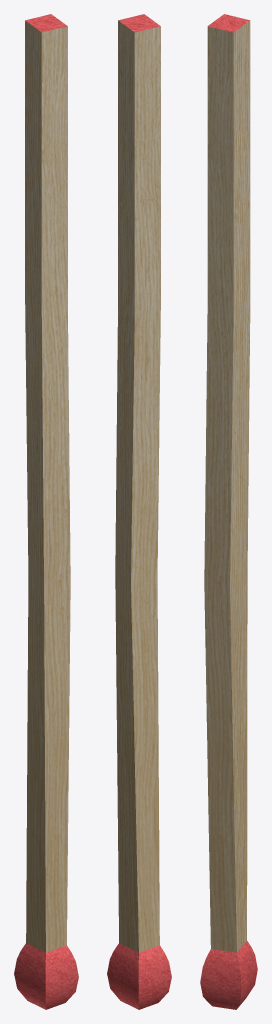
Rendered from Zwavelstokje.fbx.
The picture shows the model from 3 angles, left to right: view 1: azimuth 30°, elevation 25°; view 2: azimuth 210°, elevation 25°; view 3: azimuth 330°, elevation 25°; orthographic projection.
Parts seen in each view (by area): view 1: pCube1; view 2: pCube1; view 3: pCube1.
Boxes of the visible parts, x1=… form: pCube1: x1=14, y1=14, x2=78, y2=1009; pCube1: x1=107, y1=14, x2=171, y2=1009; pCube1: x1=200, y1=14, x2=257, y2=1009.
Bounding box in the file's own units: 1.24 × 25.8 × 1.33.
Materials: 1 (1 with a texture image).
